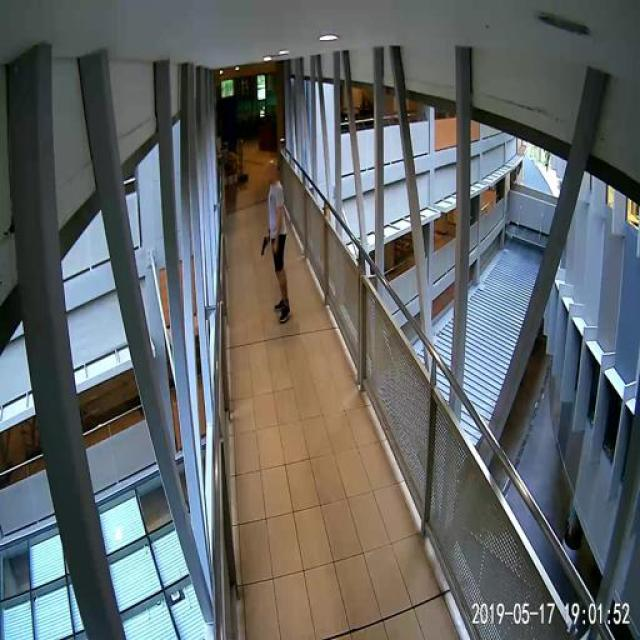Gun: (249, 227, 278, 266)
